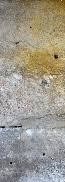Corrosion: (1, 1, 65, 92)
